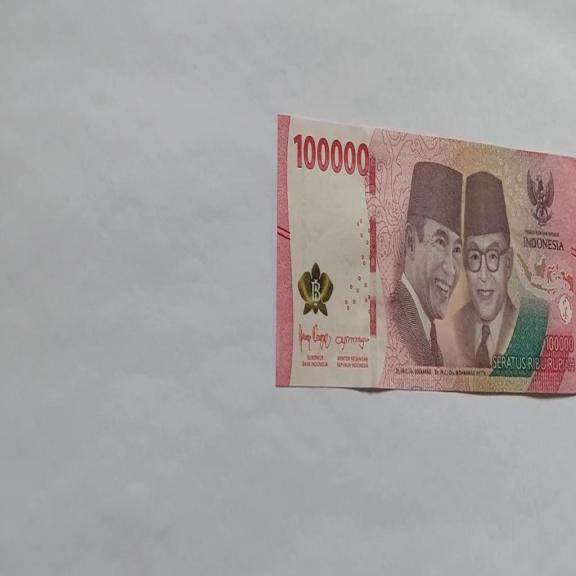Kertas: (275, 112, 575, 395), (292, 131, 370, 178)
